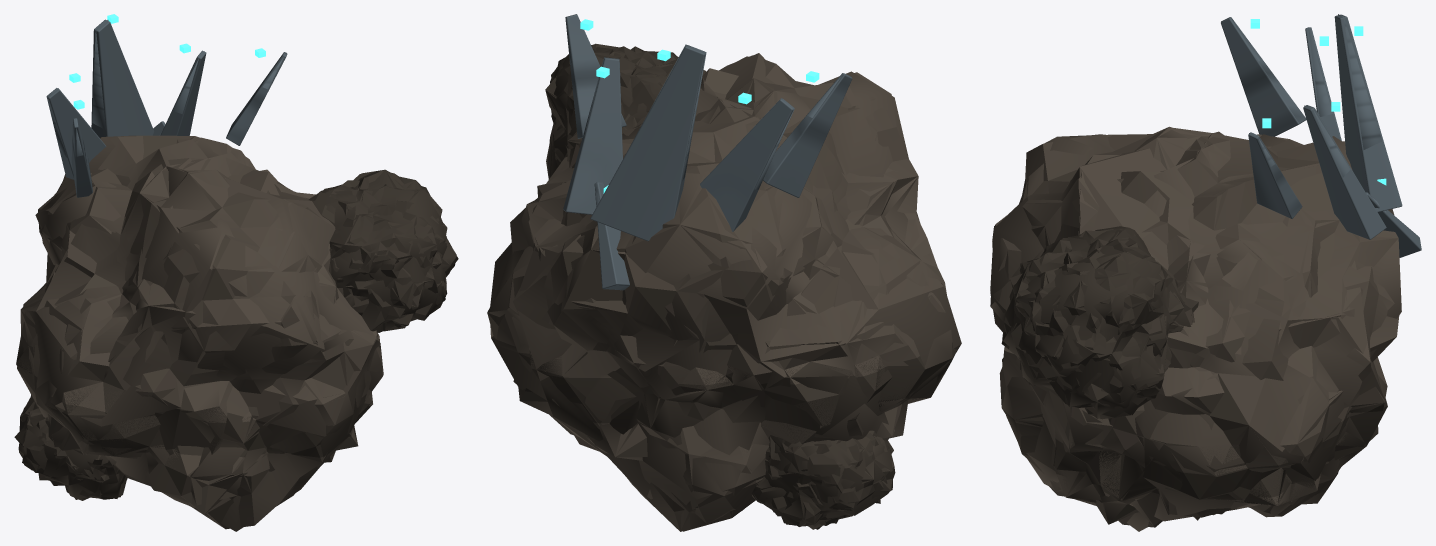
File: place_asteroid_rock_c.glb
The picture shows the model from 3 angles, left to right: view 1: azimuth 30°, elevation 25°; view 2: azimuth 150°, elevation 25°; view 3: azimuth 270°, elevation 25°; orthographic projection. The views are drawn at different scales.
Visible parts, largest first — view 1: LOD2_Stone, LOD0_Stone, LOD1_Stone, LOD0_Ceramic_xtal, LOD0_Stone_deep, LOD1_Stone_deep, LOD2_Stone_deep, LOD2_Stone_strata, LOD0_Stone_strata, LOD1_Stone_strata, LOD2_Ceramic_xtal; view 2: LOD2_Stone, LOD0_Stone, LOD1_Stone, LOD0_Ceramic_xtal, LOD2_Stone_strata, LOD0_Stone_deep, LOD0_Stone_strata, LOD1_Stone_deep, LOD2_Stone_deep, LOD1_Stone_strata, LOD2_Ceramic_xtal, LOD0_Lights_Cyan; view 3: LOD2_Stone, LOD0_Stone, LOD1_Stone, LOD0_Ceramic_xtal, LOD0_Stone_deep, LOD1_Stone_deep, LOD2_Stone_deep, LOD0_Stone_strata, LOD2_Stone_strata, LOD1_Stone_strata, LOD2_Ceramic_xtal, LOD0_Lights_Cyan.
Boxes of the visible parts, <box> form: LOD2_Stone: <box>18,135,383,531</box>; LOD0_Stone: <box>21,136,381,525</box>; LOD1_Stone: <box>20,135,382,529</box>; LOD0_Ceramic_xtal: <box>46,19,287,197</box>; LOD0_Stone_deep: <box>15,170,456,499</box>; LOD1_Stone_deep: <box>14,169,456,500</box>; LOD2_Stone_deep: <box>19,170,458,499</box>; LOD2_Stone_strata: <box>17,359,372,476</box>; LOD0_Stone_strata: <box>16,359,371,457</box>; LOD1_Stone_strata: <box>16,334,368,460</box>; LOD2_Ceramic_xtal: <box>47,20,284,157</box>; LOD2_Stone: <box>490,53,961,531</box>; LOD0_Stone: <box>487,55,952,531</box>; LOD1_Stone: <box>487,56,954,531</box>; LOD0_Ceramic_xtal: <box>563,14,852,290</box>; LOD2_Stone_strata: <box>491,338,961,441</box>; LOD0_Stone_deep: <box>545,43,895,529</box>; LOD0_Stone_strata: <box>494,337,956,428</box>; LOD1_Stone_deep: <box>545,44,893,529</box>; LOD2_Stone_deep: <box>546,45,891,526</box>; LOD1_Stone_strata: <box>496,345,954,439</box>; LOD2_Ceramic_xtal: <box>568,14,851,189</box>; LOD0_Lights_Cyan: <box>580,19,819,193</box>; LOD2_Stone: <box>990,128,1401,531</box>; LOD0_Stone: <box>990,126,1399,527</box>; LOD1_Stone: <box>990,127,1397,527</box>; LOD0_Ceramic_xtal: <box>1221,14,1421,257</box>; LOD0_Stone_deep: <box>1001,226,1198,417</box>; LOD1_Stone_deep: <box>1003,228,1194,419</box>; LOD2_Stone_deep: <box>1002,228,1191,418</box>; LOD0_Stone_strata: <box>1003,405,1383,500</box>; LOD2_Stone_strata: <box>1006,406,1387,505</box>; LOD1_Stone_strata: <box>1002,402,1384,505</box>; LOD2_Ceramic_xtal: <box>1221,14,1381,177</box>; LOD0_Lights_Cyan: <box>1250,19,1386,185</box>.
Size of what is drawn, in the model's own units: 8.36 by 9.44 by 7.5.
Materials: 6 (2 with a texture image).
